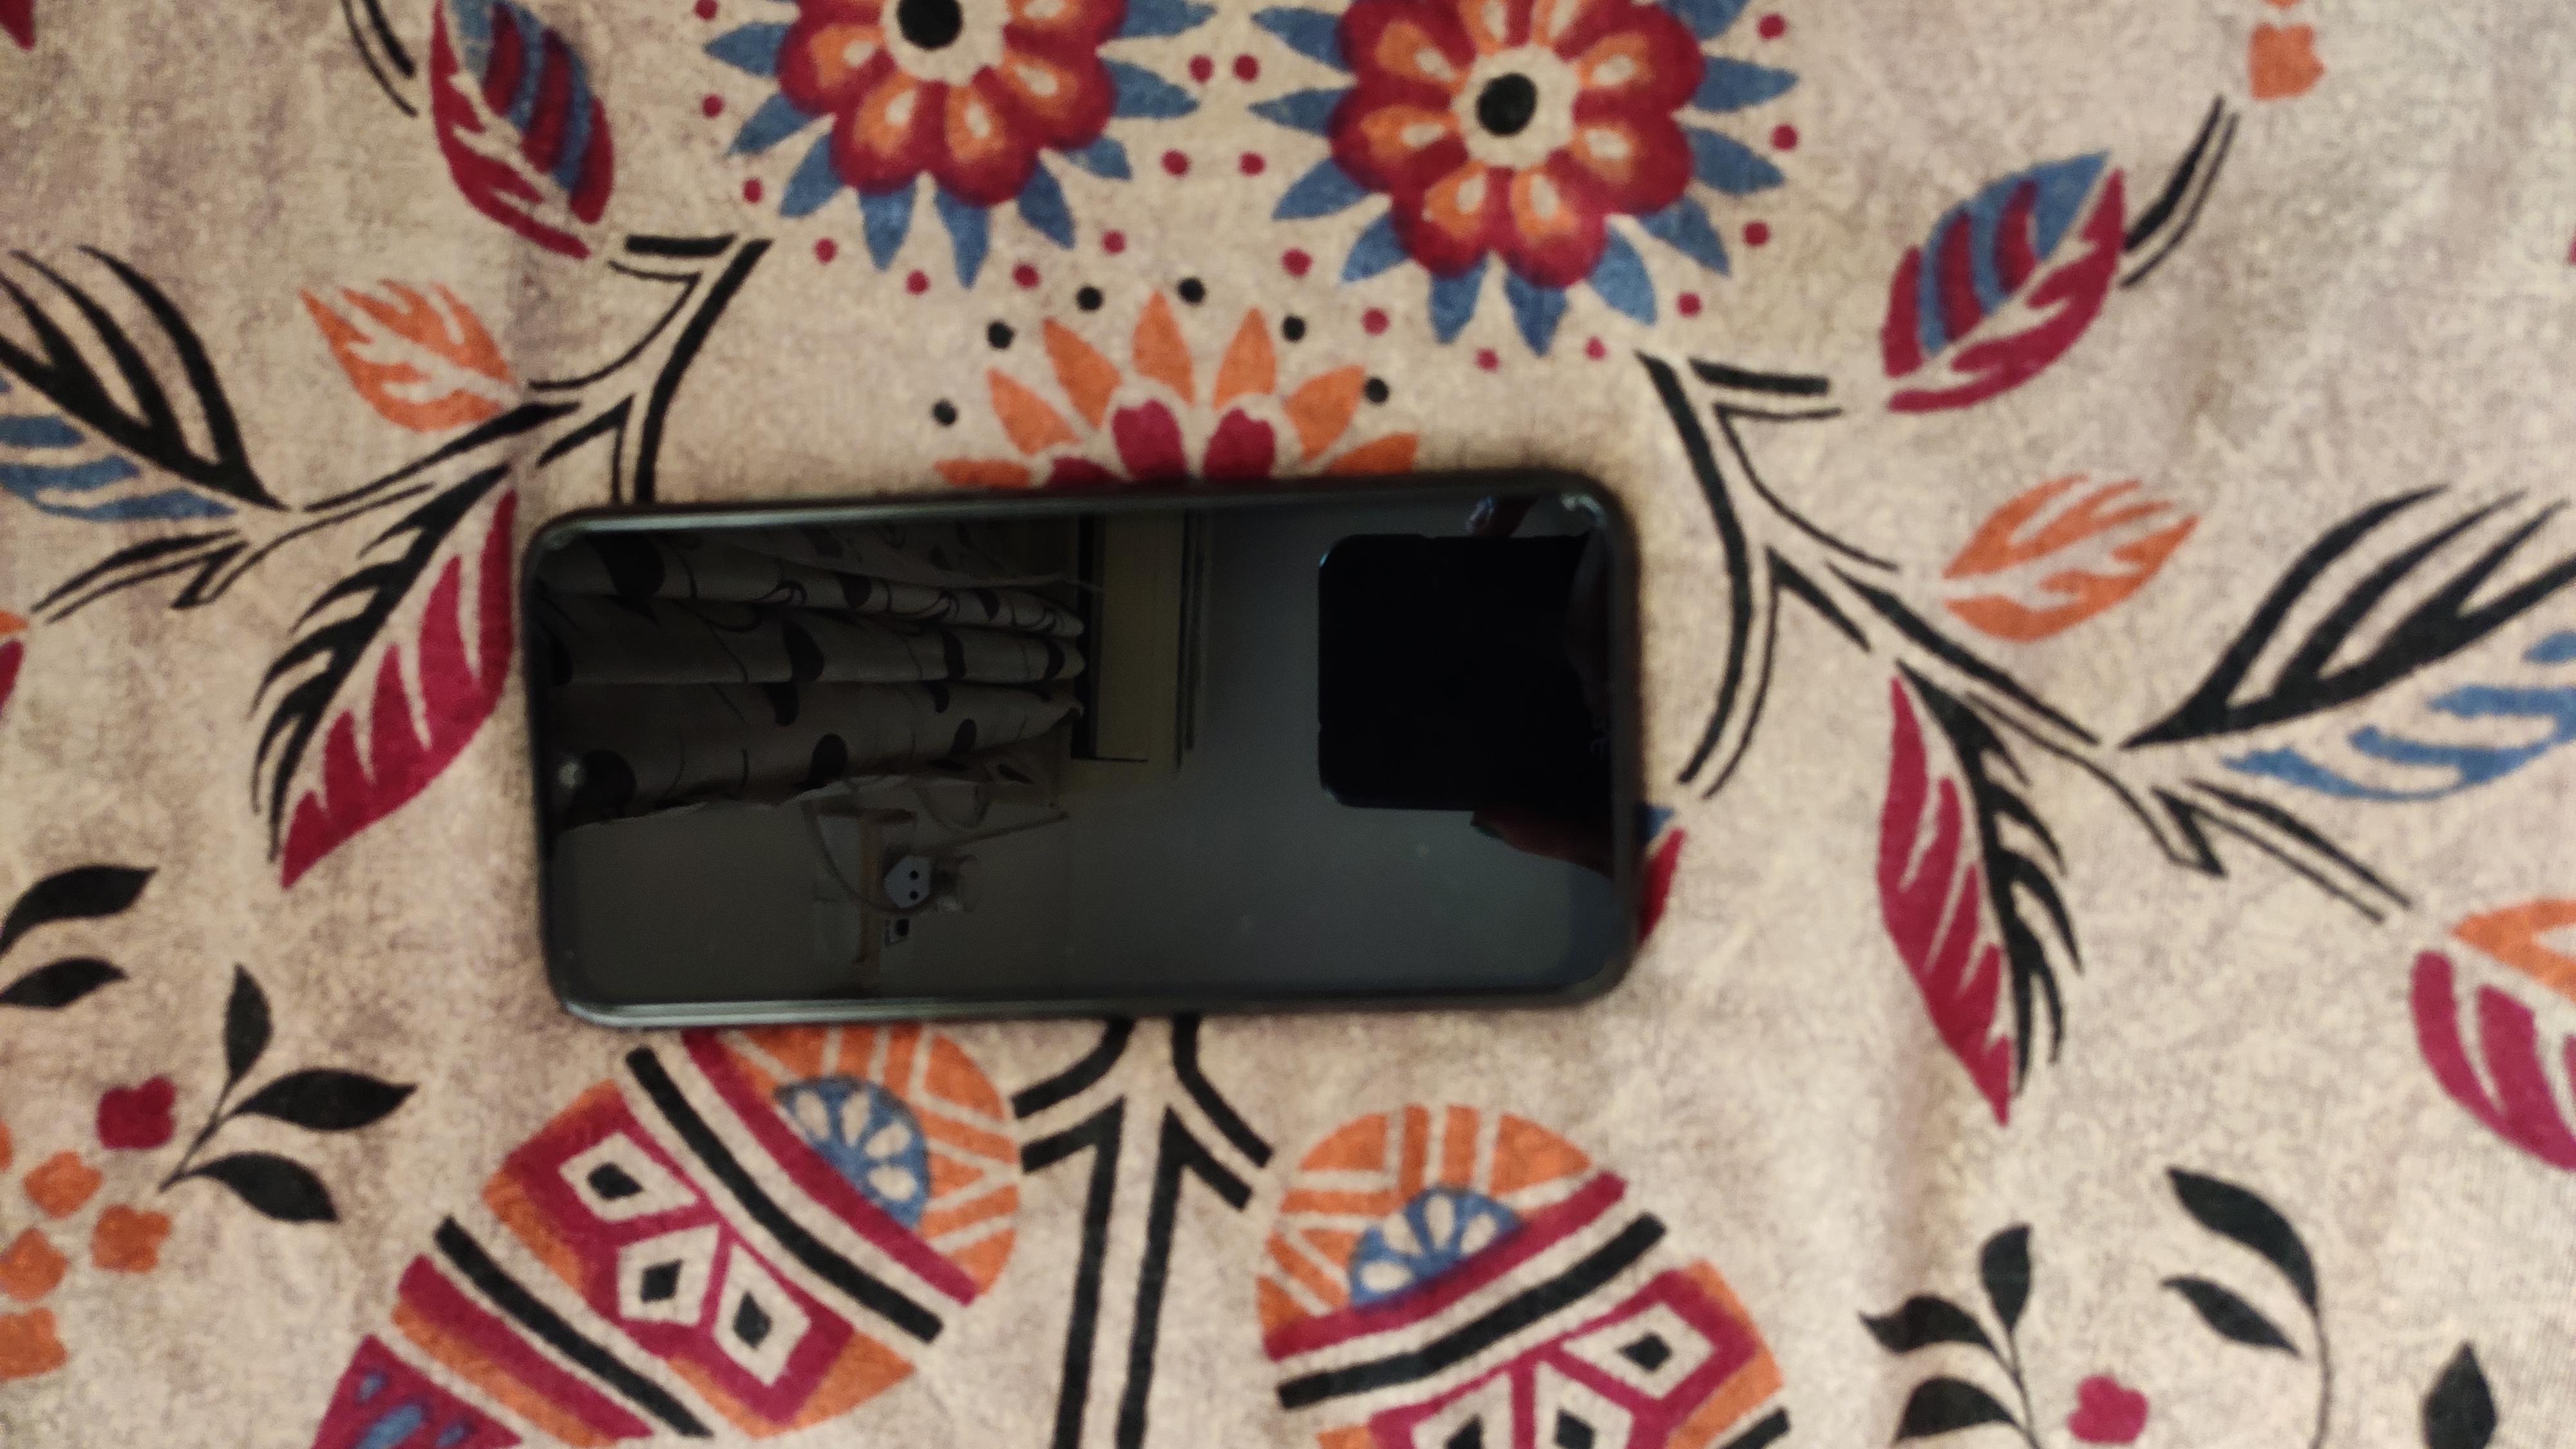Phone: (483, 441, 1702, 1099)
